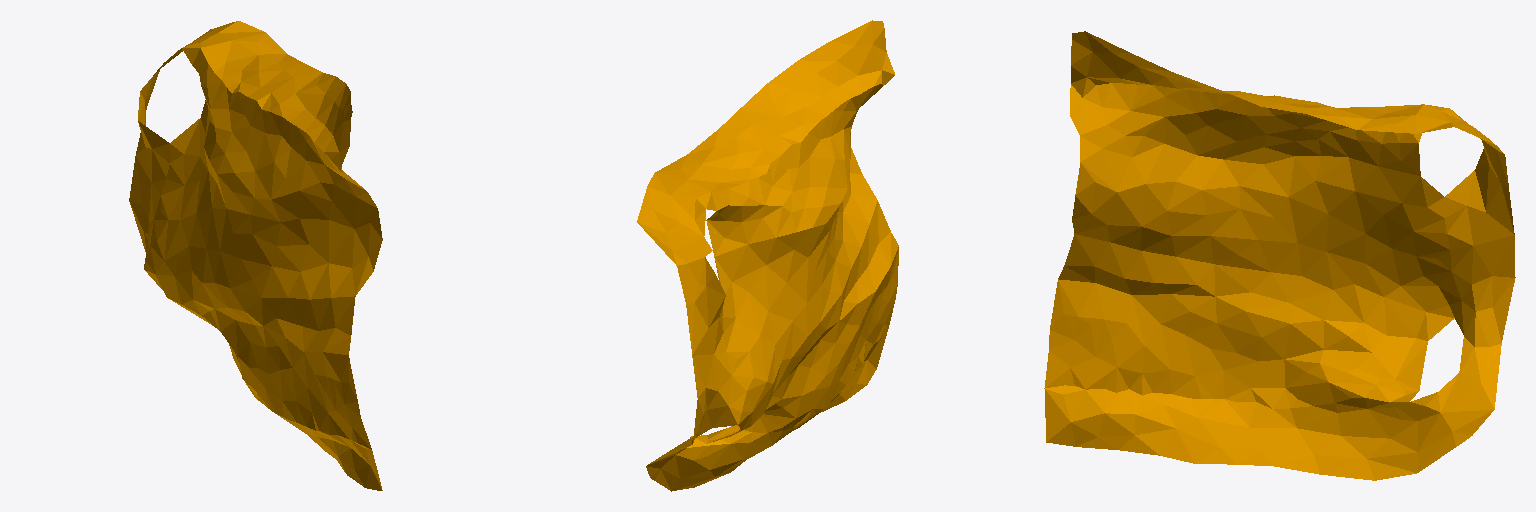
URDF robot description (init):
<?xml version='1.0' encoding='utf-8'?>
<robot name="init">
<link name="link_0"><inertial><mass value="1.0" /><origin rpy="0 0 0" xyz="0.000000 0.000000 0.000000" /><inertia ixx="1.0" ixy="0.0" ixz="0.0" iyy="1.0" iyz="0.0" izz="1.0" /></inertial><visual><origin rpy="0 0 0" xyz="0.000000 0.000000 0.000000" /><geometry><mesh filename="./clothHuman/cloth/2461.obj" /></geometry></visual><collision><origin rpy="0 0 0" xyz="0.000000 0.000000 0.000000" /><geometry><mesh filename="./clothHuman/cloth/2461.obj" /></geometry></collision></link></robot>

--- Render facts (derived) ---
3 views of the same robot in one strip: view 1: azimuth 30°, elevation 25°; view 2: azimuth 150°, elevation 25°; view 3: azimuth 270°, elevation 25° (orthographic).
Model init with 1 links and 0 joints (none), rooted at link_0, posed all joints at 0.
Links seen in each view (by area): view 1: link_0; view 2: link_0; view 3: link_0.
Boxes of the visible links, bbox=[...] form: link_0: bbox=[129, 21, 382, 490]; link_0: bbox=[637, 20, 898, 491]; link_0: bbox=[1044, 31, 1515, 480].
Bounding box of the posed robot: 1.16 × 4.07 × 4.04 m (x, y, z).
1 mesh visuals loaded from 1 distinct referenced files (1 OBJ).